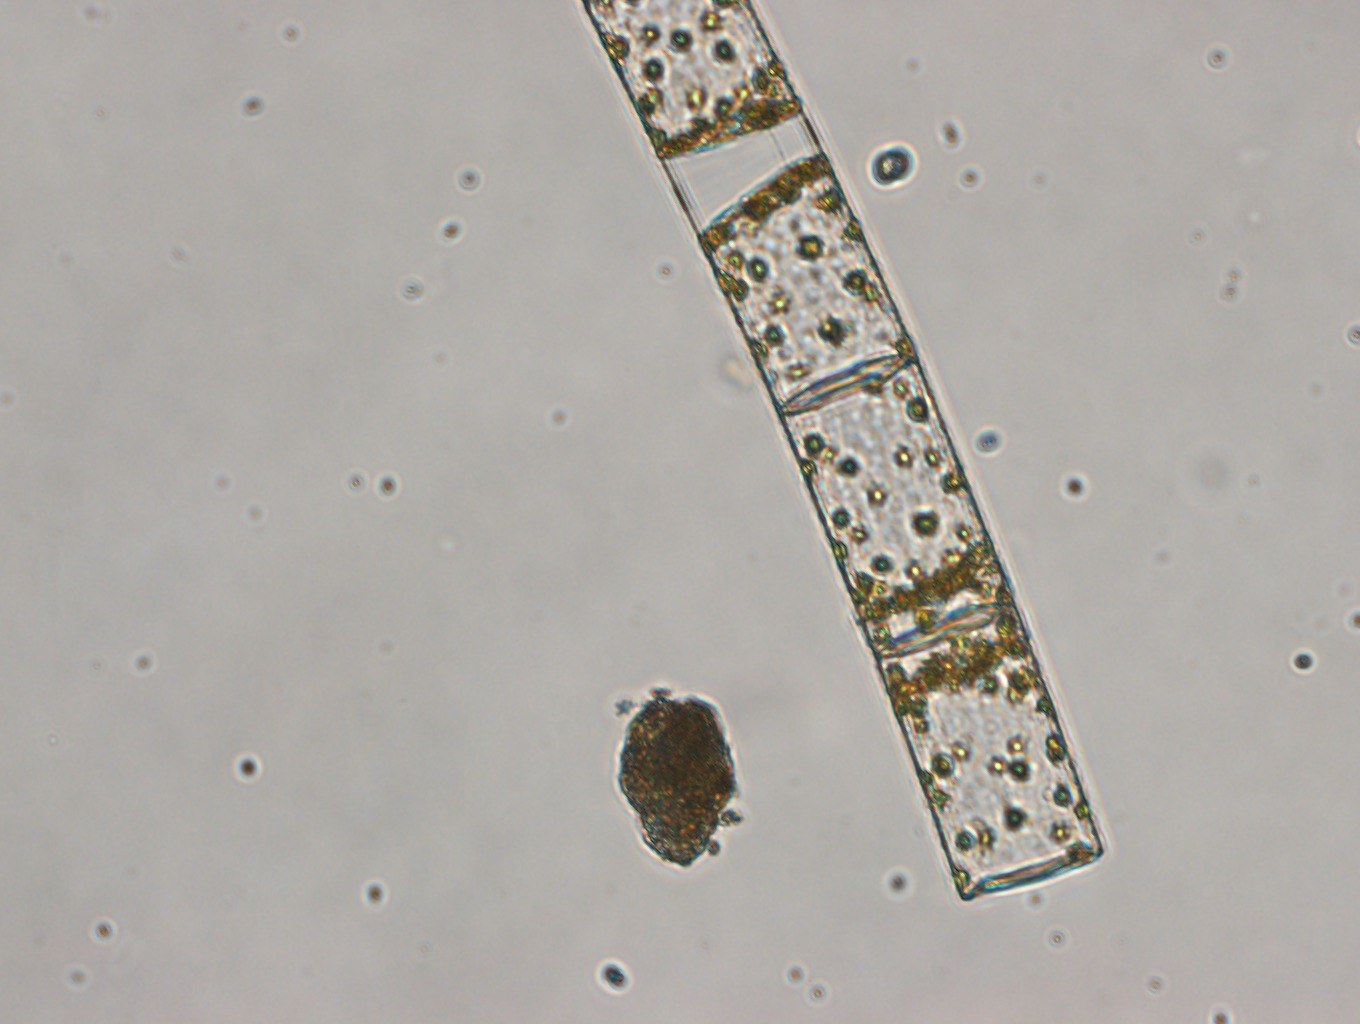guinardia flaccida: (581, 1, 1108, 905)
